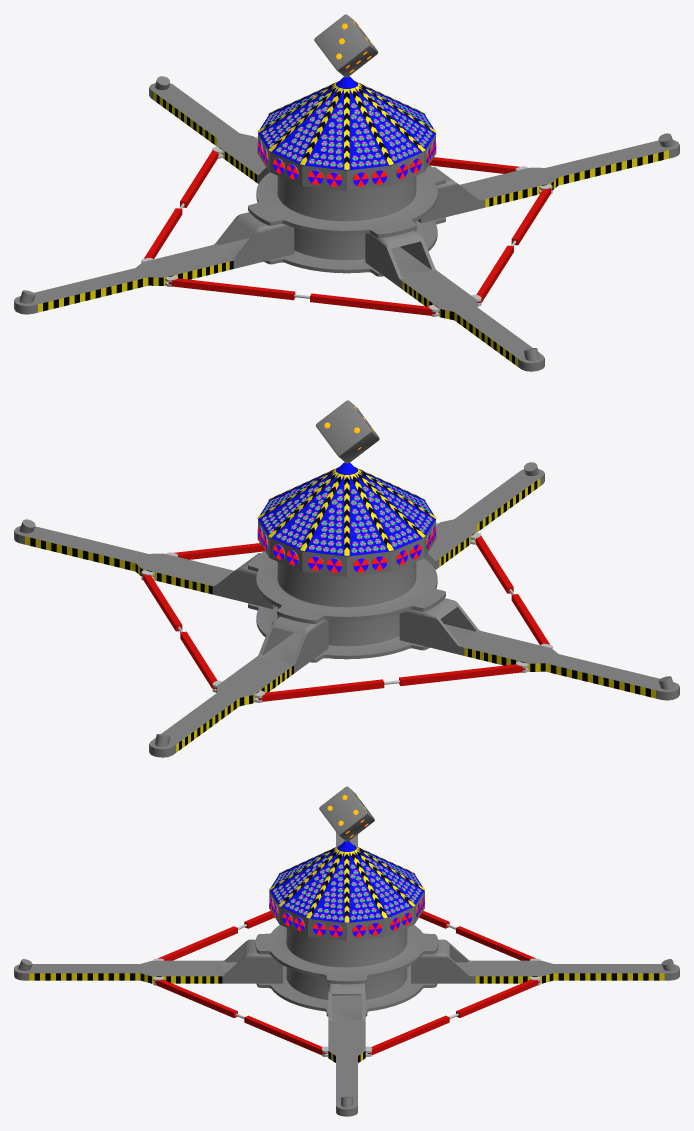
File: DancerKreuz.glb
3 views of the same model, one above another, from view 1: azimuth 30°, elevation 25°; view 2: azimuth 150°, elevation 25°; view 3: azimuth 270°, elevation 25° (orthographic). The views are drawn at different scales.
Visible parts, largest first — view 1: GondelKreuzBase; view 2: GondelKreuzBase; view 3: GondelKreuzBase.
Part boxes in pixels (x1,y1,x2,y2): GondelKreuzBase: [14, 14, 679, 371]; GondelKreuzBase: [14, 400, 679, 757]; GondelKreuzBase: [14, 786, 679, 1116].
Bounding box in the file's own units: 4.12 × 1.36 × 4.12.
